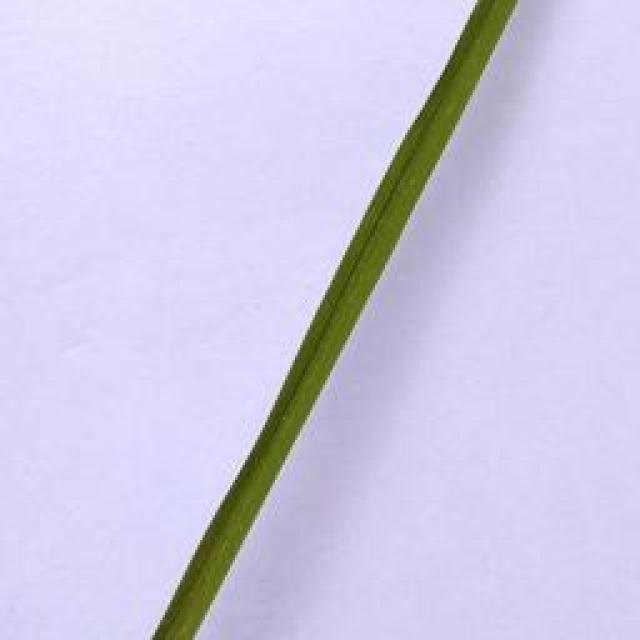Healthy-Plant: (156, 0, 522, 640)
